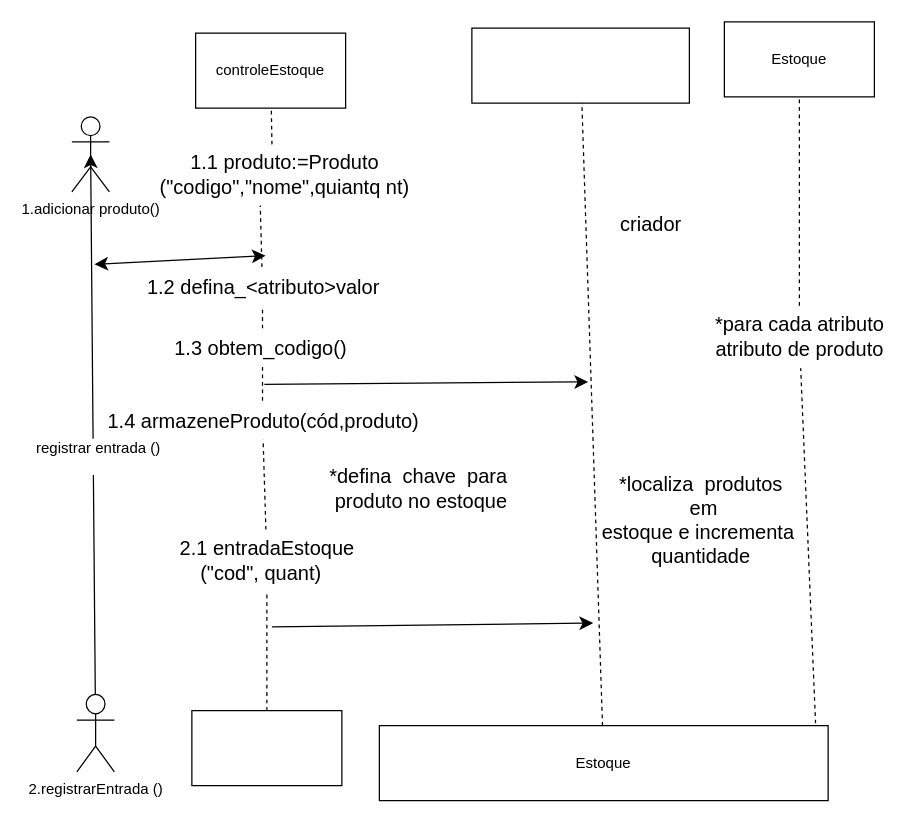
This 916x823 diagram has some shape labels left out. Each missing label, with the centre of its shape:
Controle de estoque: the point at 266,747
Produto: the point at 580,65
